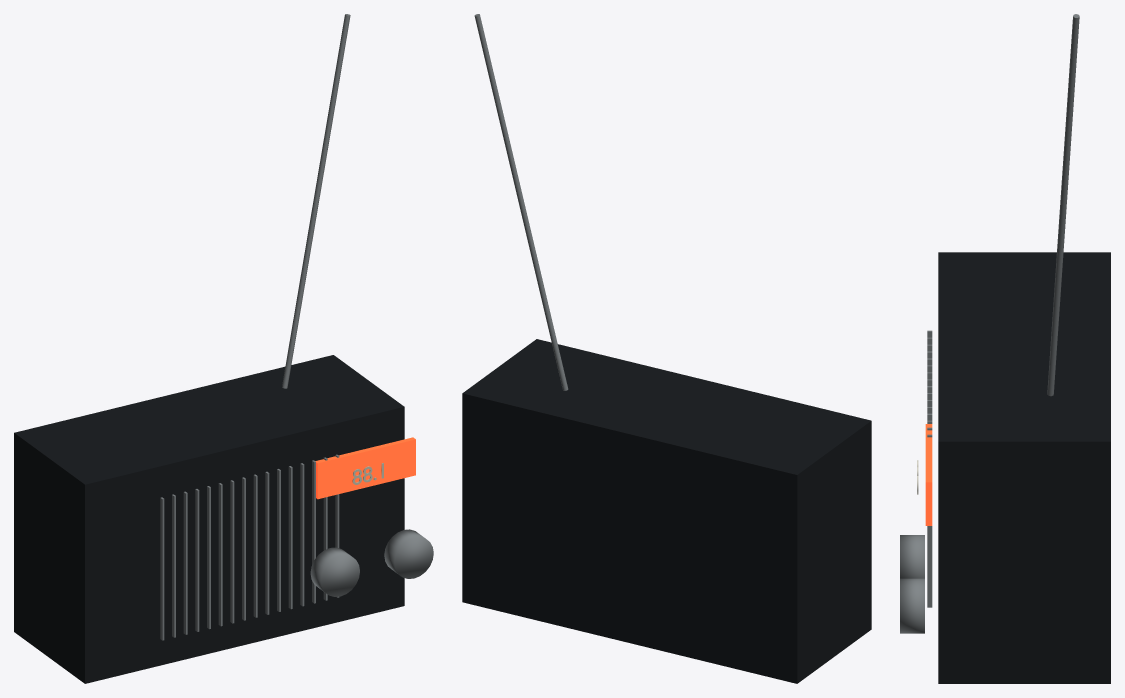
The model's file is radio.glb.
The picture shows the model from 3 angles, left to right: view 1: azimuth 30°, elevation 25°; view 2: azimuth 150°, elevation 25°; view 3: azimuth 270°, elevation 25°; orthographic projection. The views are drawn at different scales.
Parts seen in each view (by area): view 1: Desk radio, Radio display, Radio aerial, Radio dial, Radio dial.001, Speaker grille.005, Speaker grille.009, Speaker grille, Speaker grille.002, Speaker grille.011, Speaker grille.012, Speaker grille.003 (+2 smaller); view 2: Desk radio, Radio aerial; view 3: Desk radio, Radio aerial, Radio dial.001, Radio dial, Radio display, Speaker grille.015.
Boxes of the visible parts, box(x1,y1,x2,y2) form: Desk radio: box(14, 355, 404, 683); Radio display: box(315, 437, 415, 499); Radio aerial: box(282, 14, 350, 388); Radio dial: box(310, 547, 359, 596); Radio dial.001: box(384, 529, 433, 578); Speaker grille.005: box(218, 483, 222, 626); Speaker grille.009: box(265, 471, 269, 614); Speaker grille: box(160, 497, 164, 640); Speaker grille.002: box(183, 491, 187, 634); Speaker grille.011: box(288, 466, 292, 609); Speaker grille.012: box(300, 463, 304, 606); Speaker grille.003: box(195, 489, 199, 631); Desk radio: box(462, 339, 871, 683); Radio aerial: box(474, 14, 568, 390); Desk radio: box(938, 252, 1110, 683); Radio aerial: box(1047, 14, 1079, 396); Radio dial.001: box(900, 578, 924, 633); Radio dial: box(900, 535, 924, 578); Radio display: box(925, 424, 932, 525); Speaker grille.015: box(927, 434, 932, 607).
Size of the model in its own units: 0.542 by 0.8559 by 0.2445.
